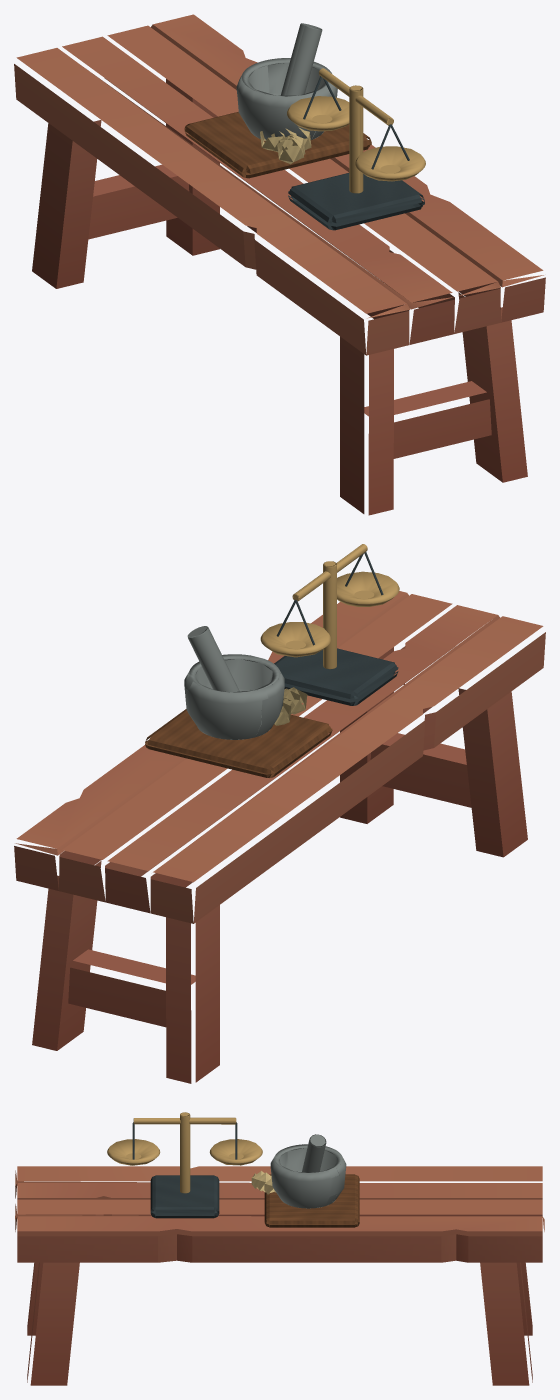
The model's file is preparation.glb.
The picture shows the model from 3 angles, top to bottom: view 1: azimuth 30°, elevation 25°; view 2: azimuth 150°, elevation 25°; view 3: azimuth 270°, elevation 25°; orthographic projection. The views are drawn at different scales.
Parts seen in each view (by area): view 1: Preparation; view 2: Preparation; view 3: Preparation.
Part boxes in pixels (x1,y1,x2,y2): Preparation: [14, 14, 545, 515]; Preparation: [14, 544, 545, 1083]; Preparation: [15, 1112, 544, 1385].
Bounding box in the file's own units: 0.83 × 1.43 × 2.8.
6 materials, 4 textured.
